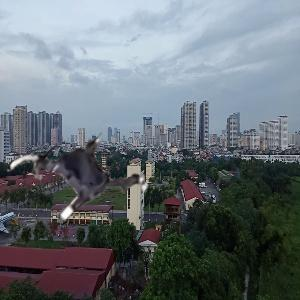drone: (12, 108, 150, 246)
